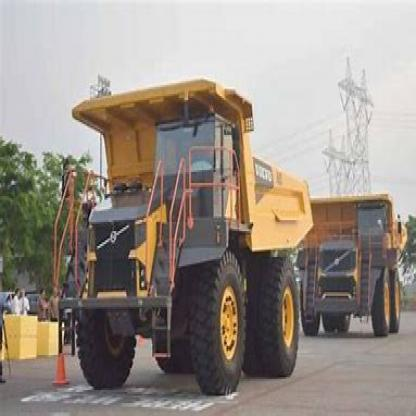dump_truck: (54, 78, 320, 392), (311, 188, 407, 338)
